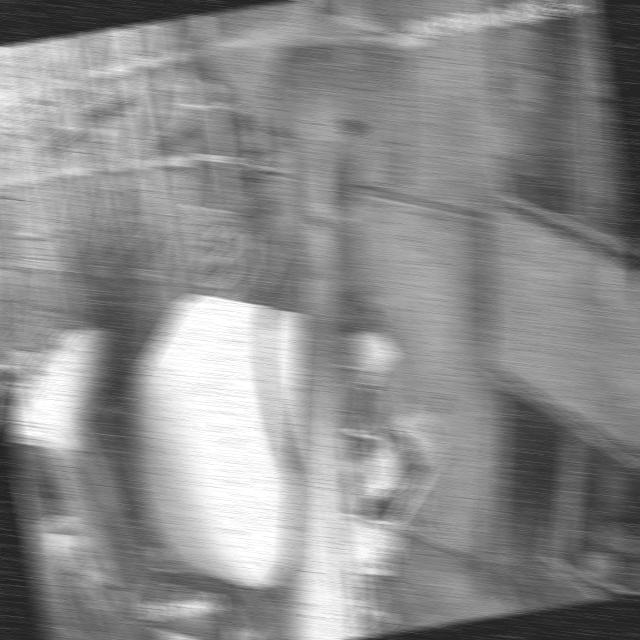cement_mixer_truck: (0, 267, 445, 640)
swing_chute: (270, 126, 373, 334)
